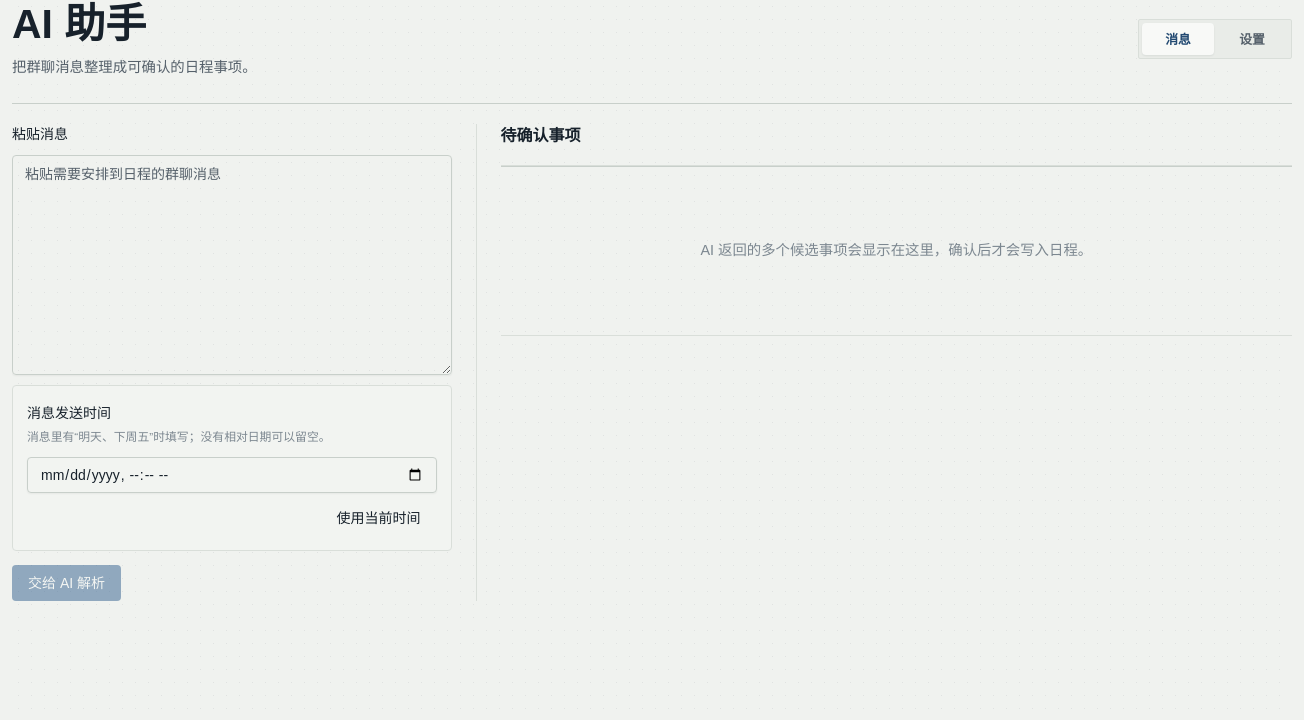
Test: AssistantView › discovers models from the unsaved connection profile and lets the user select one
Click the button "设置": click(1252, 39) top-left (1216, 23), bottom-right (1288, 55)
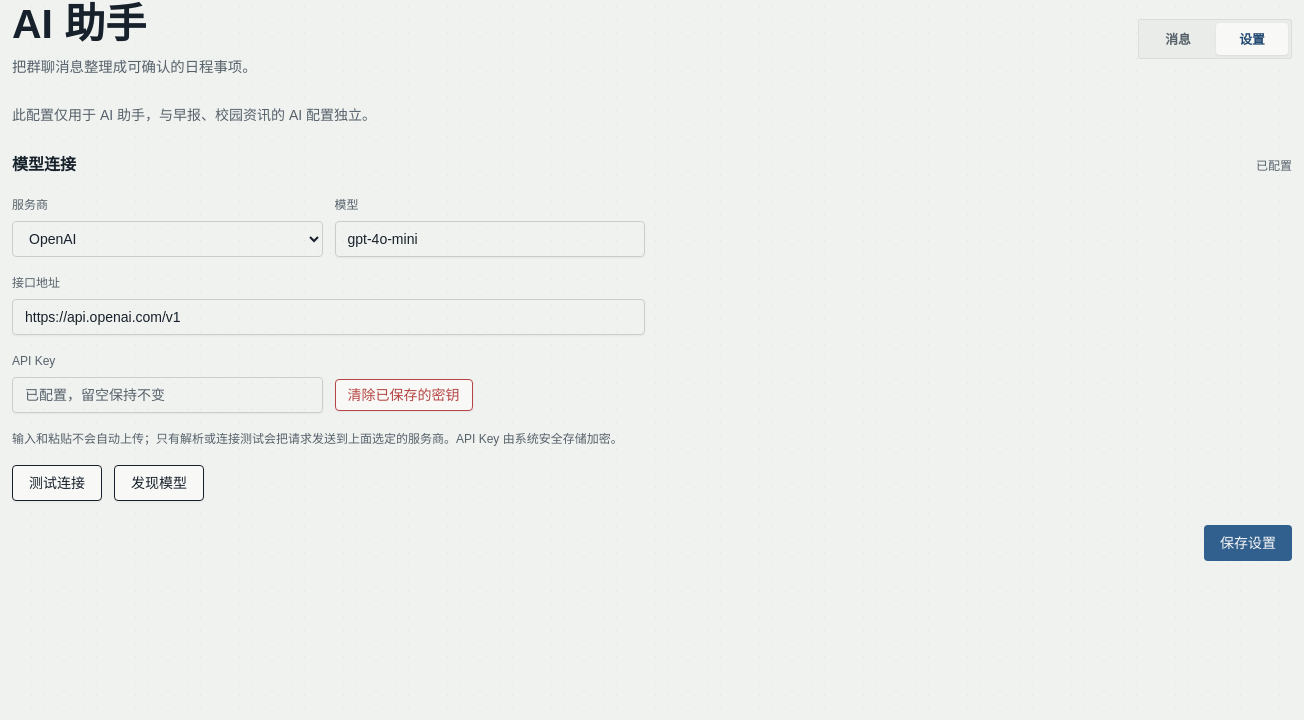
Click the button "发现模型": click(159, 483) top-left (114, 465), bottom-right (204, 501)
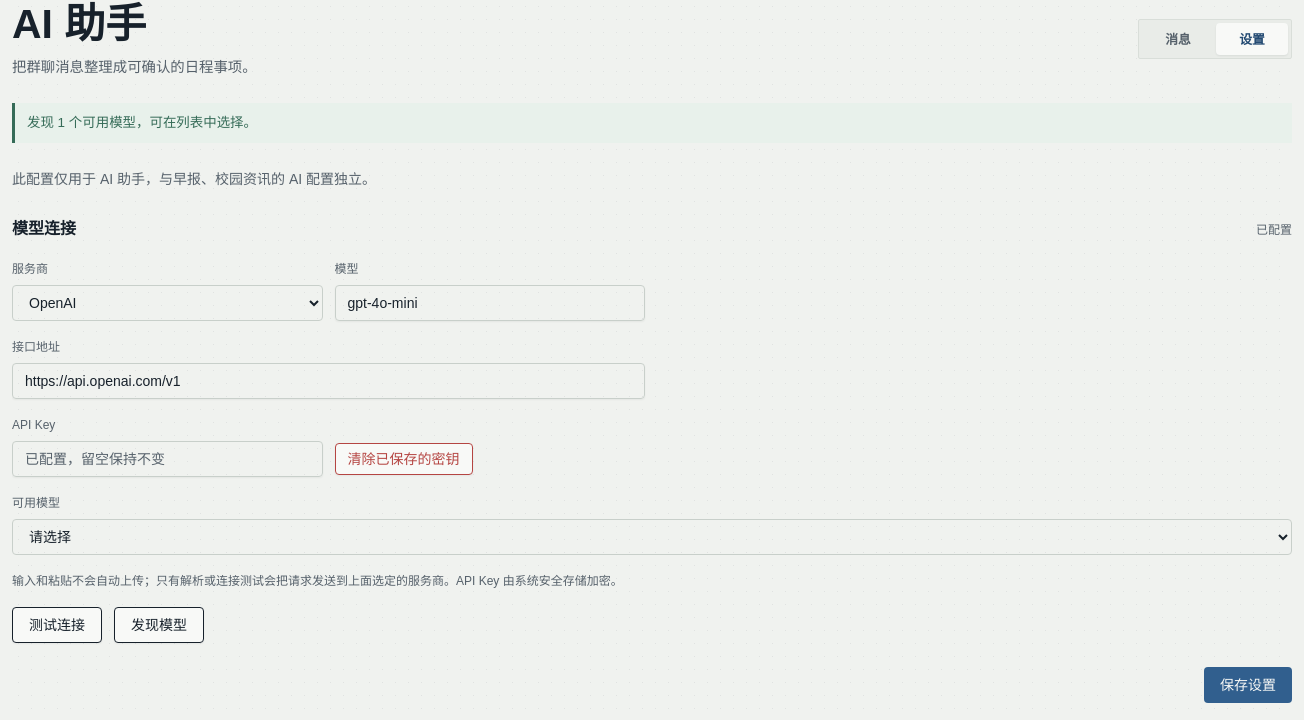
Select "discovered-model" in the dropdown labelled "可用模型": (652, 537) top-left (12, 519), bottom-right (1292, 555)
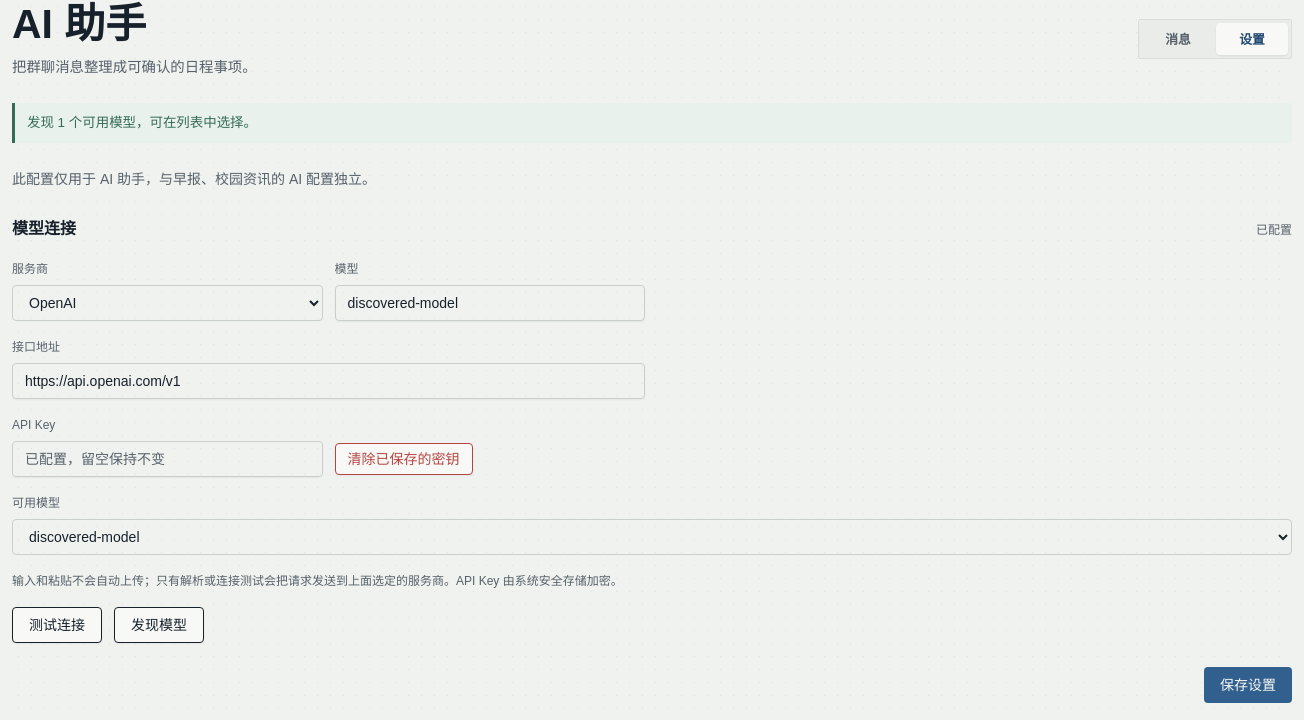
Expected: the field labelled "模型" holds "discovered-model", top-left (334, 285), bottom-right (645, 321)
